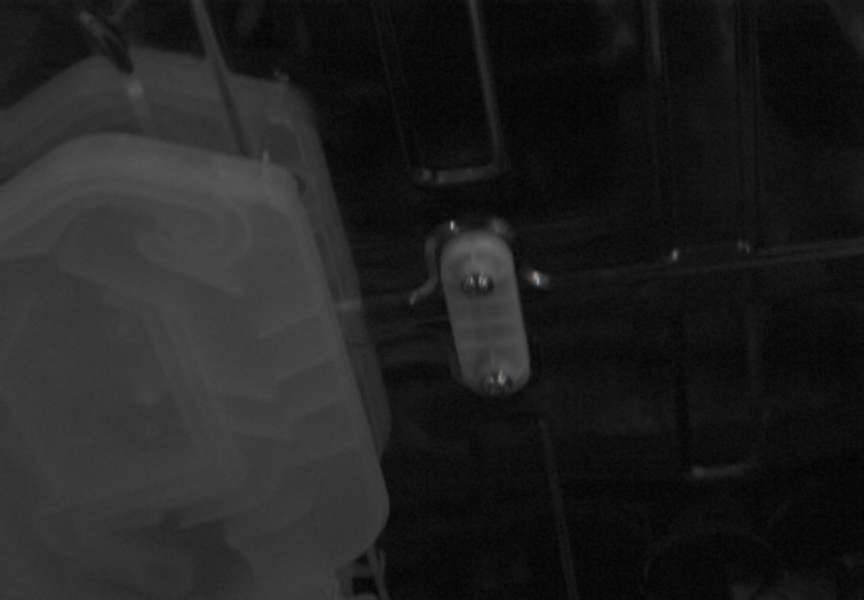screw: (481, 370, 513, 397), (461, 272, 494, 297)
